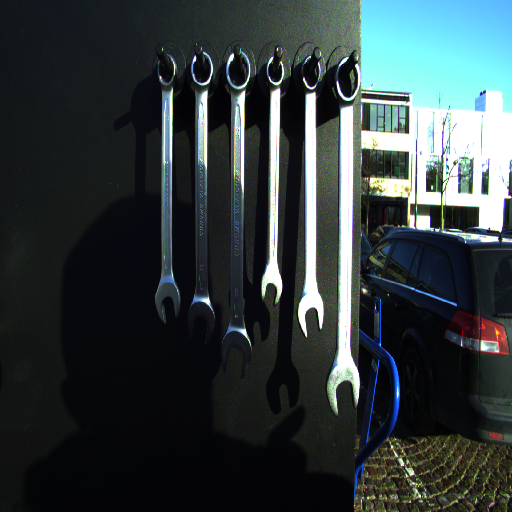bottom: (325, 367, 360, 417), (219, 331, 252, 380), (184, 304, 217, 350), (295, 295, 326, 338), (153, 285, 181, 323), (260, 270, 283, 306)
top: (333, 54, 362, 109), (224, 49, 253, 96), (189, 49, 215, 94), (298, 53, 323, 95), (155, 50, 179, 90), (263, 55, 287, 92)
